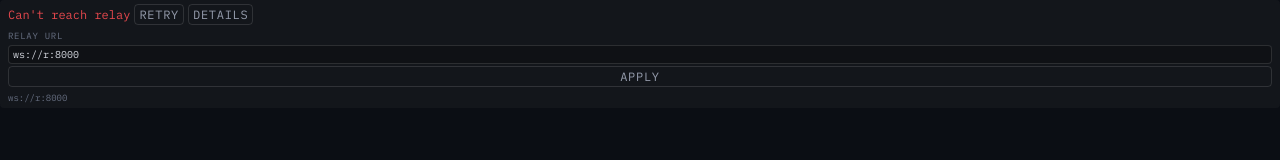
Test: RelayConnectionPanel › unreachable state renders an alert, a Retry button, and the raw error behind Details
Expected: the message "Can't reach relay" is shown, [8, 6, 130, 24]
Expected: the button "Retry" is shown, [134, 4, 184, 25]
Click the button "Details": (221, 14) [188, 4, 254, 25]
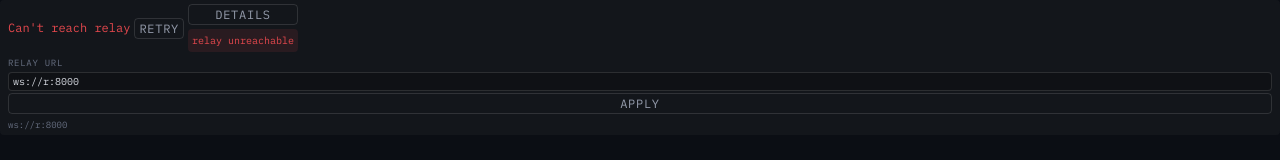
Now the text "relay unreachable" is shown, box [188, 29, 298, 52]
